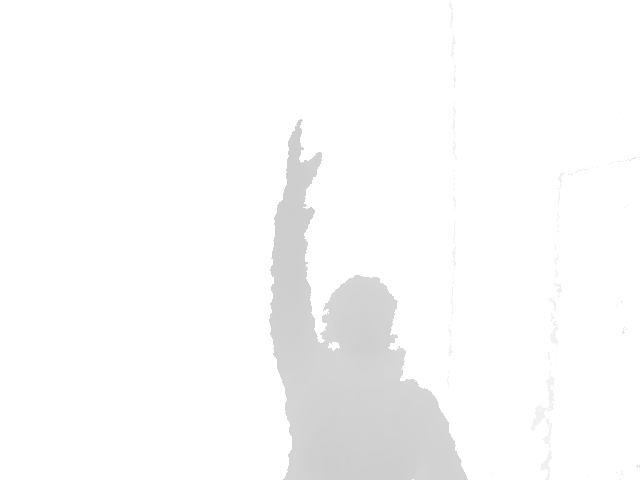hand: (285, 117, 323, 190)
head: (321, 274, 398, 351)
person: (268, 117, 470, 480)
